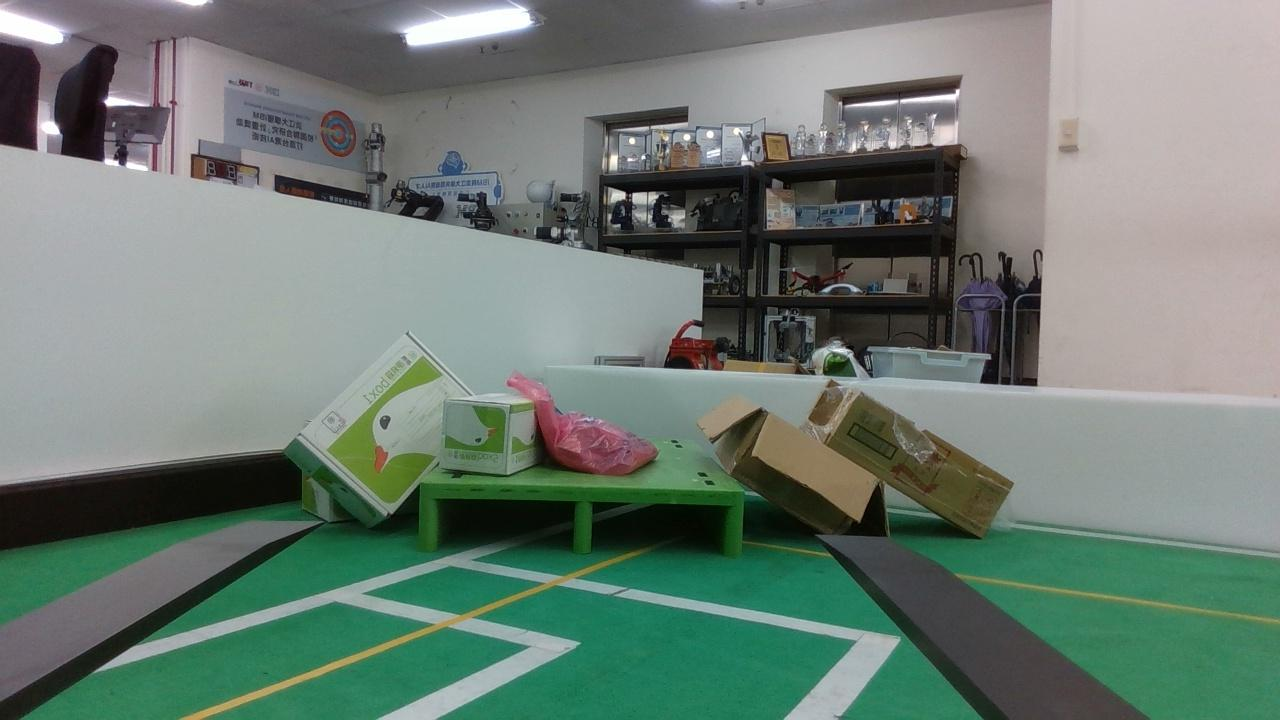Pallet: (419, 481, 747, 557)
